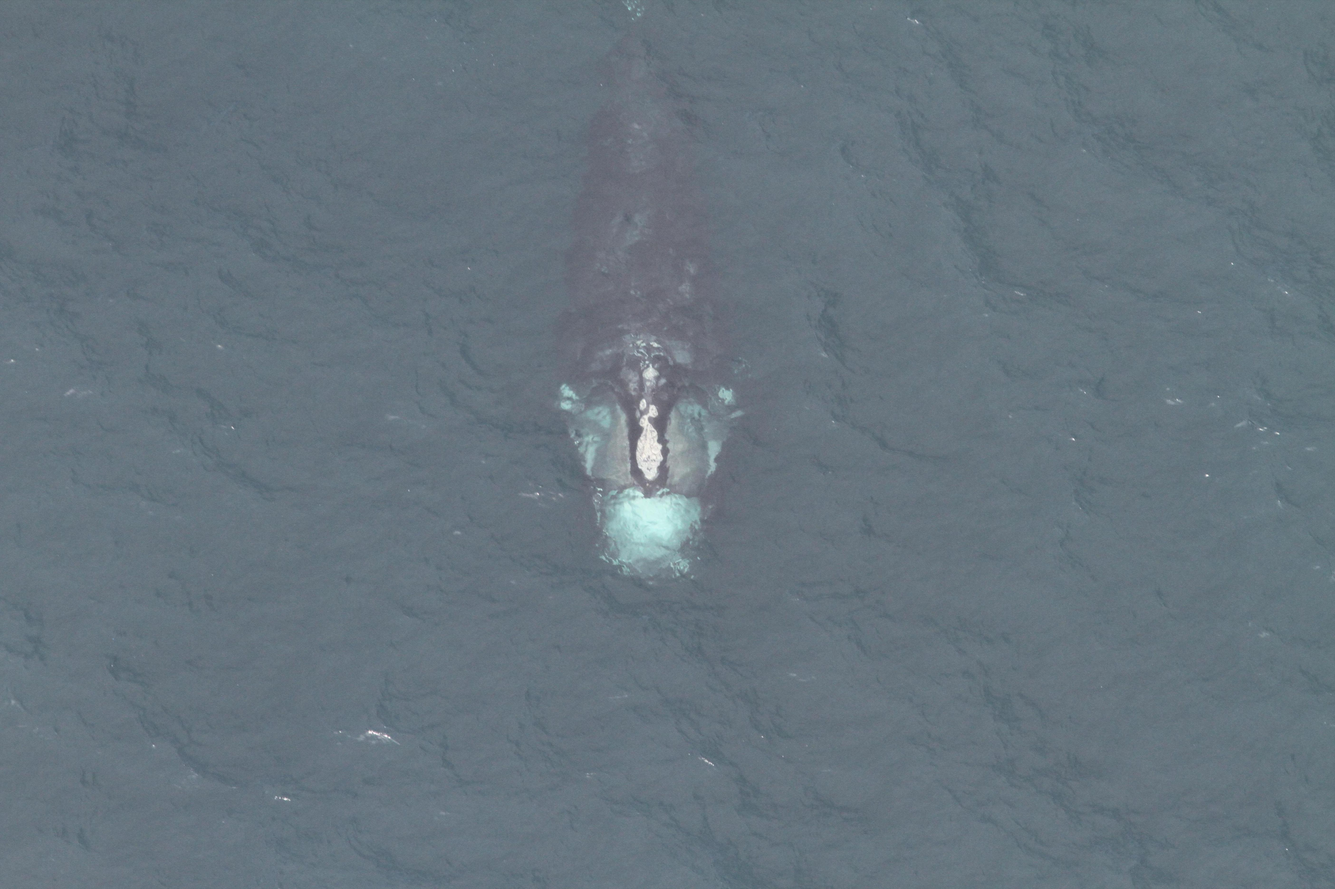whale: (482, 0, 802, 595)
